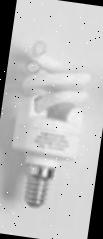lightbulb: (2, 38, 96, 210)
